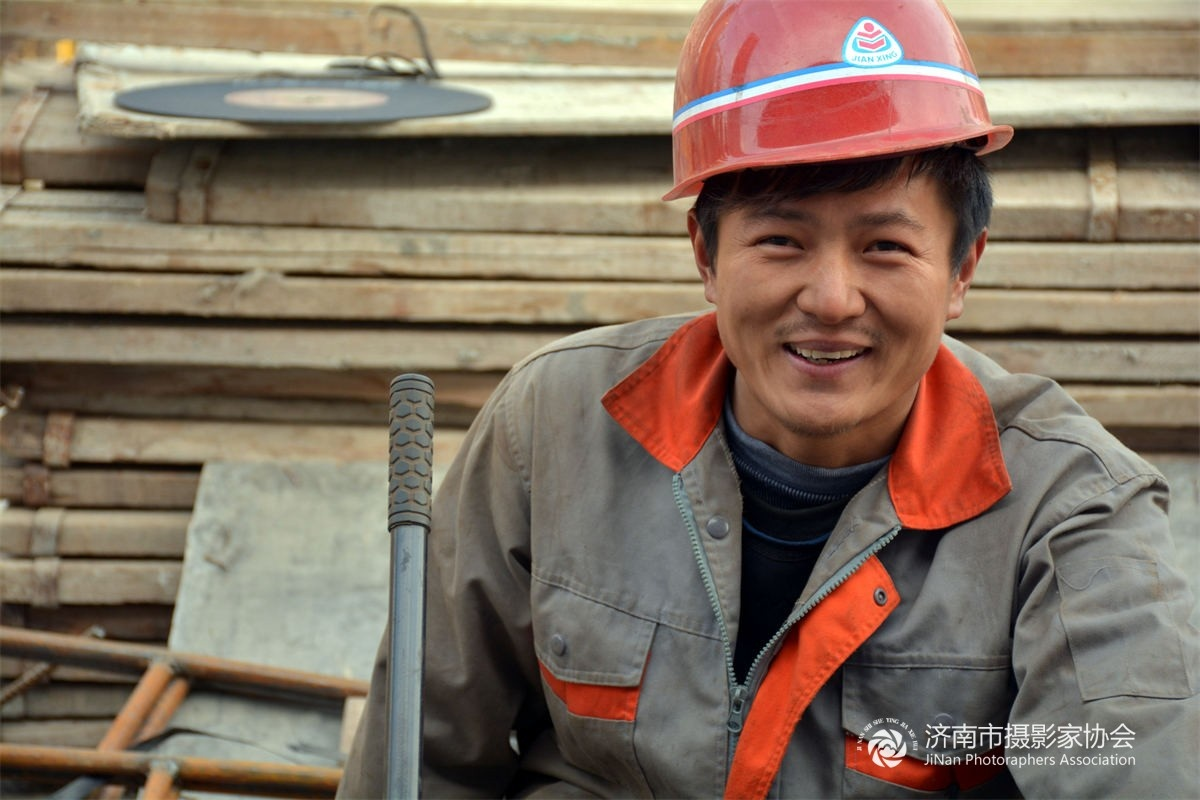red: (668, 1, 991, 430)
